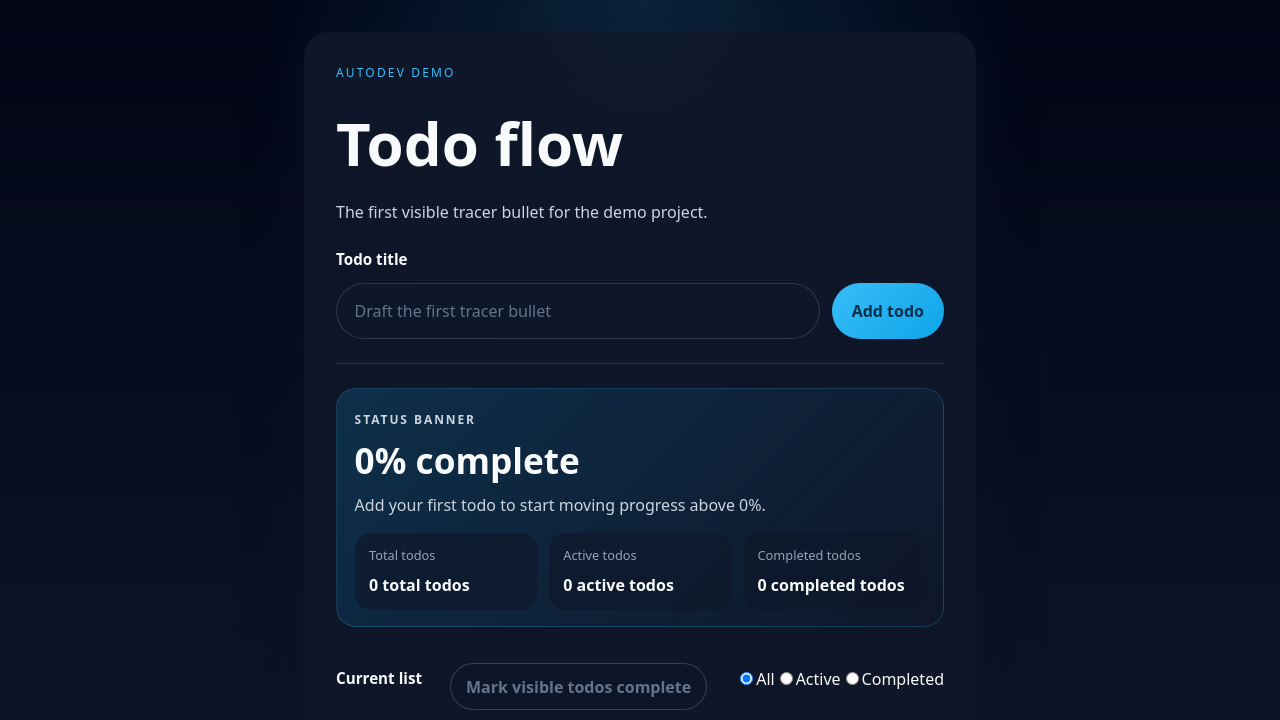
Test case: Todo app shell › switches a todo into edit mode with the current title and saves the trimmed value
Type "  Rename me later  " into the field labelled "Todo title" at (578, 311), box [336,283,820,339]
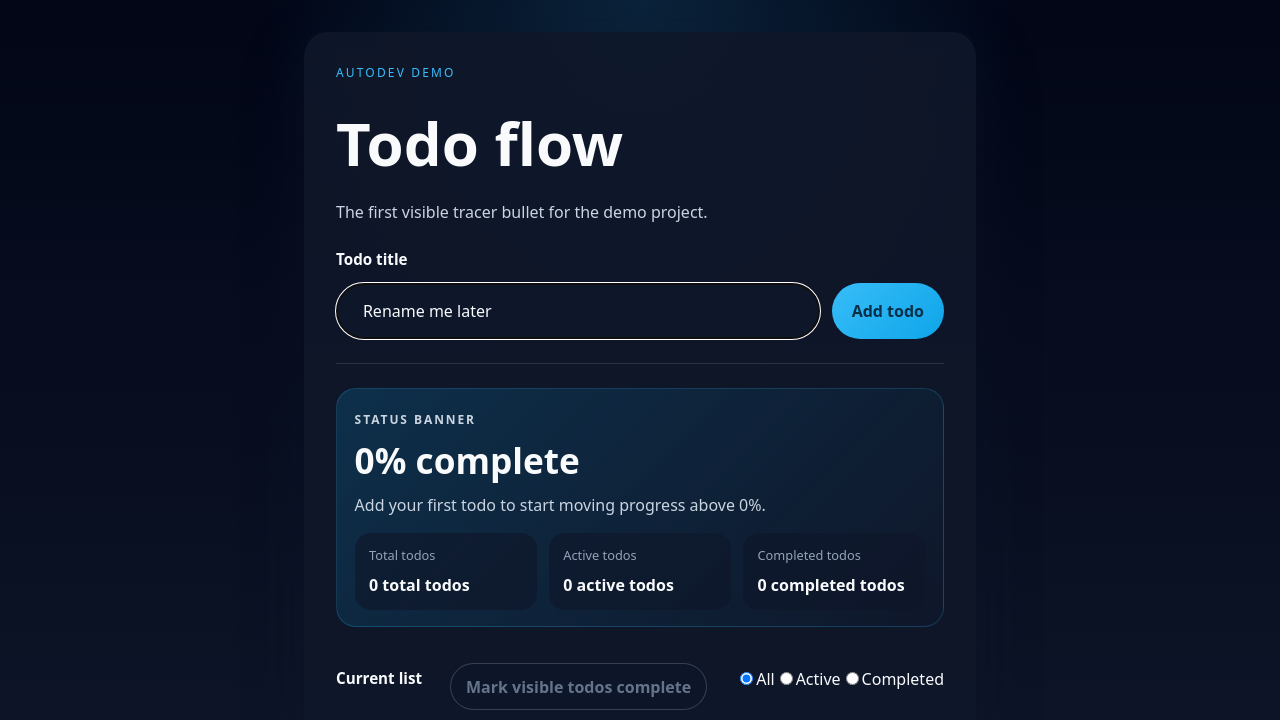
Click the button "Add todo" at (888, 311), box [832,283,944,339]
(page scrolled)
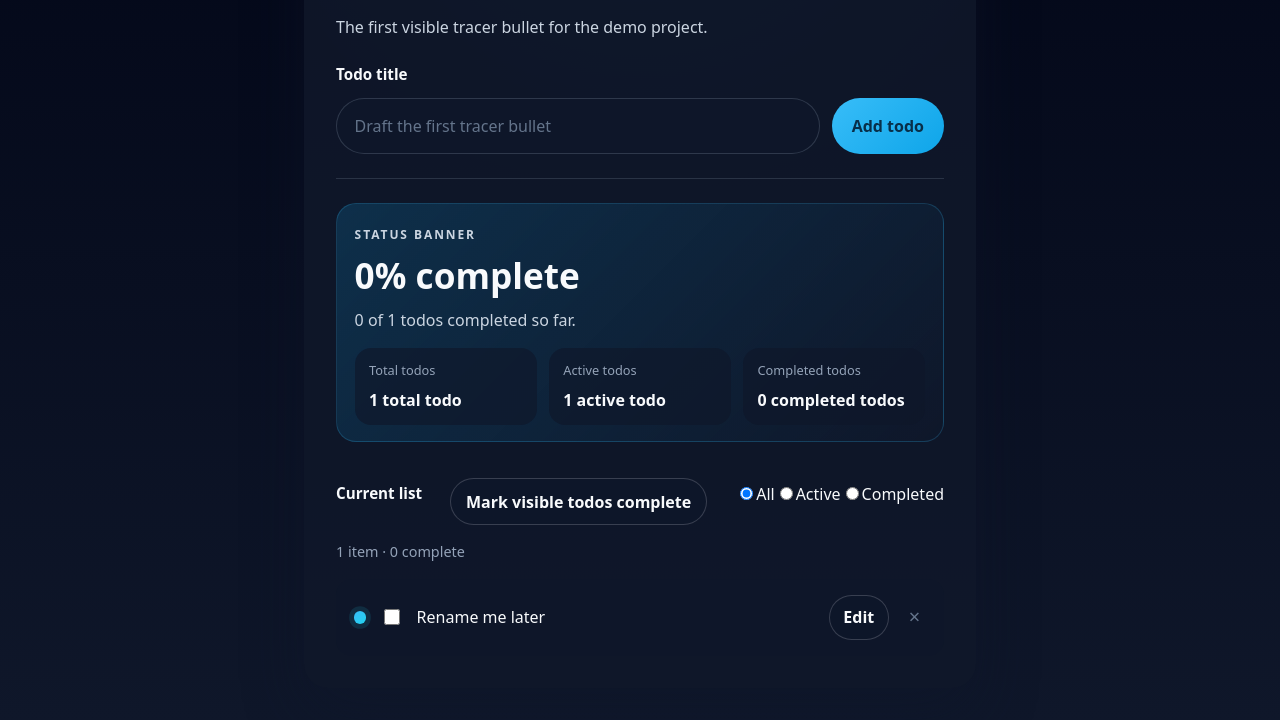
Click the button with aria-label "edit todo: rename me later" at (859, 617), box [829,595,889,640]
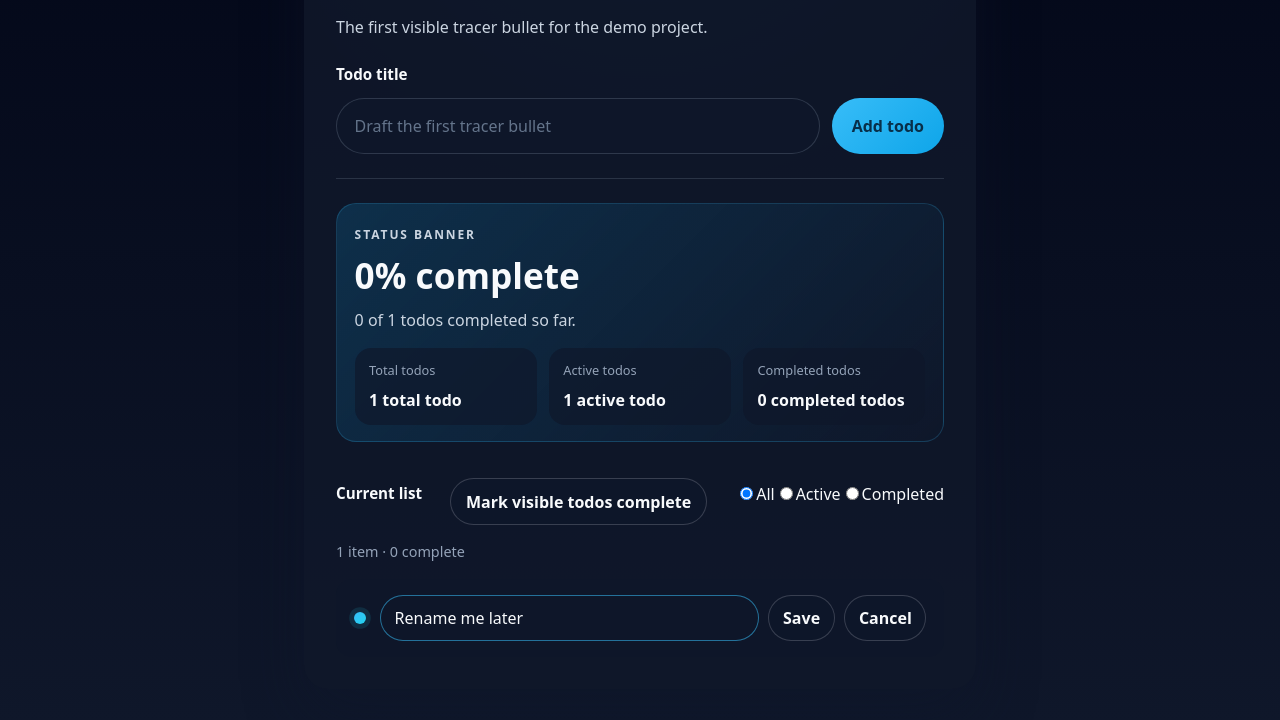
Result: the field named "edit todo title for rename me later" holds "Rename me later"
Replace the text in the field named "edit todo title for rename me later" with "  Renamed todo  " at (569, 618), box [380,595,759,642]
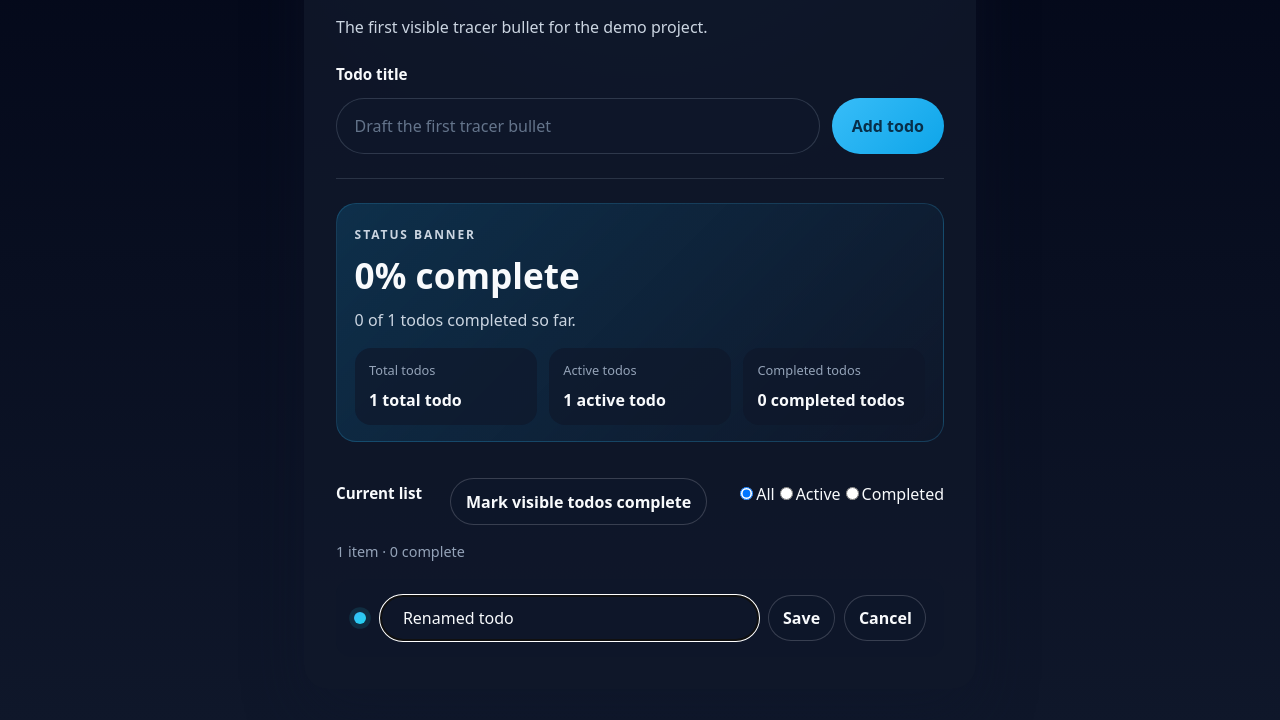
Click the button with aria-label "save todo: rename me later" at (802, 618), box [768,595,835,642]
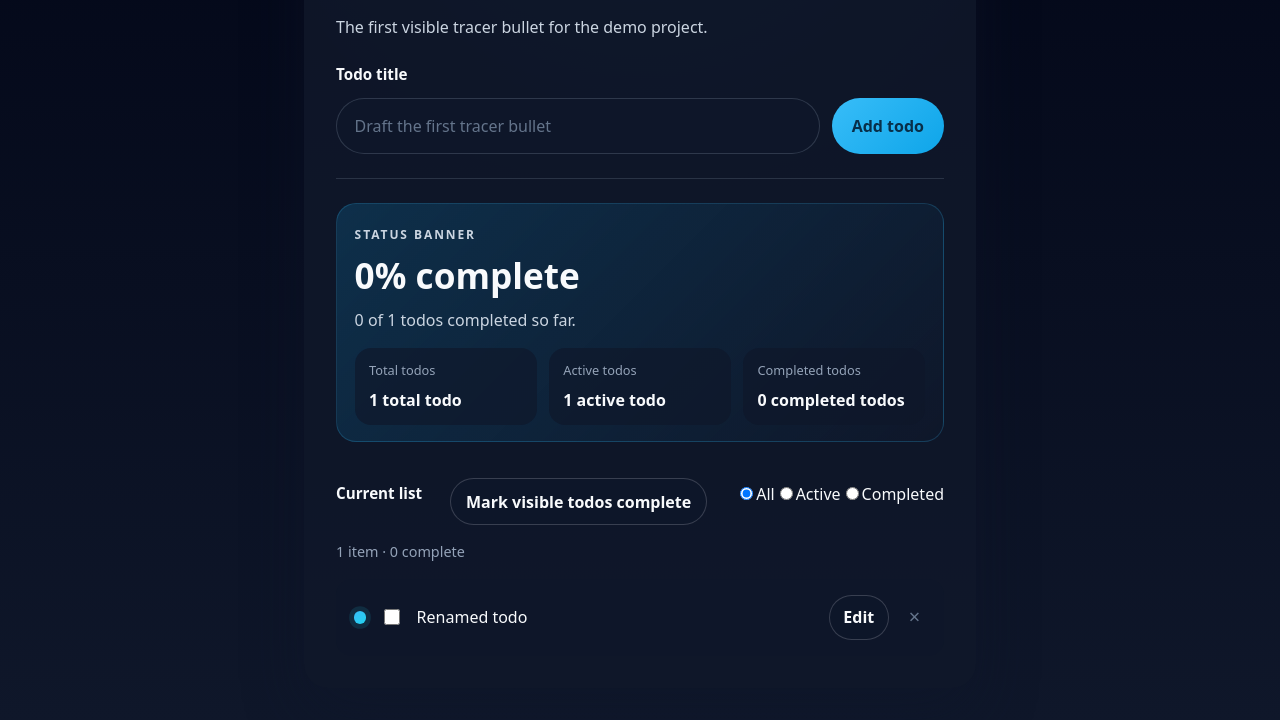
Expected: the text "Rename me later" is not shown
Result: the text "Renamed todo" is shown at [417,606,527,628]
